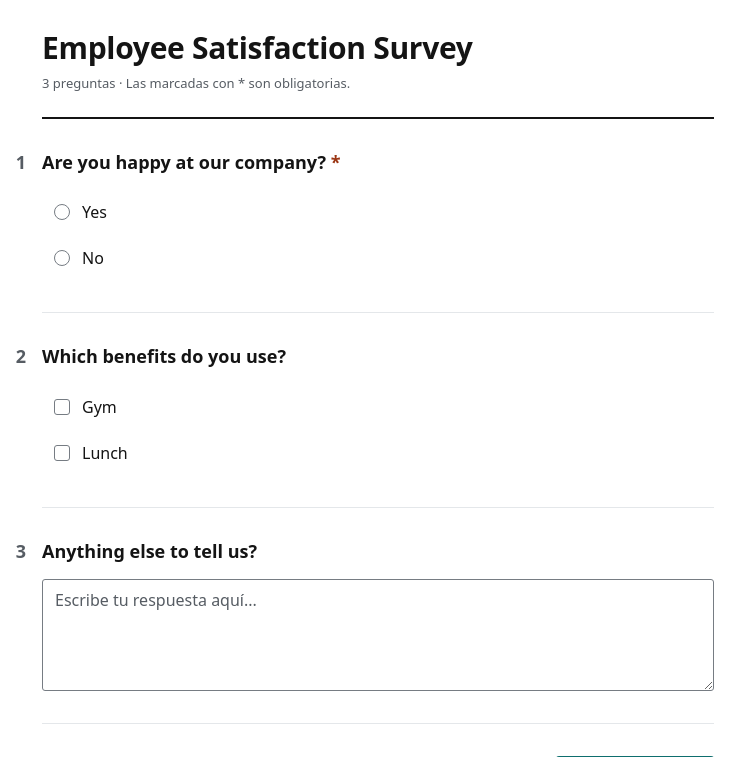
SurveyAnsweringPage (REQ-FE-023, REQ-FE-024, REQ-FE-034) › AC-FE-023-3: a checkbox checked then unchecked, and blank text, are omitted
Click the radio button named "Yes" next to "Yes": click(62, 212) 54,204 -> 70,220
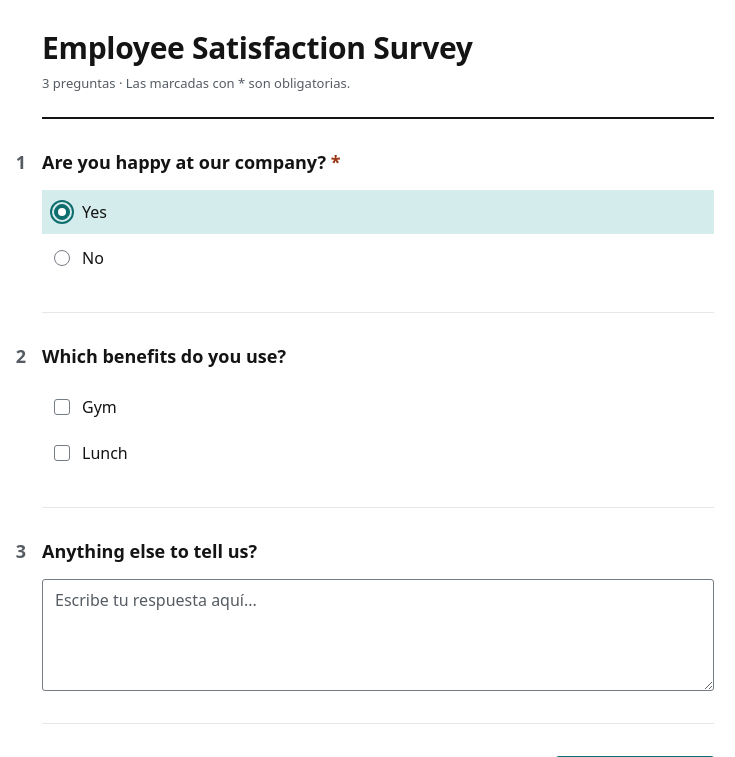
Click the checkbox named "Gym" next to "Gym": click(62, 407) 54,399 -> 70,415
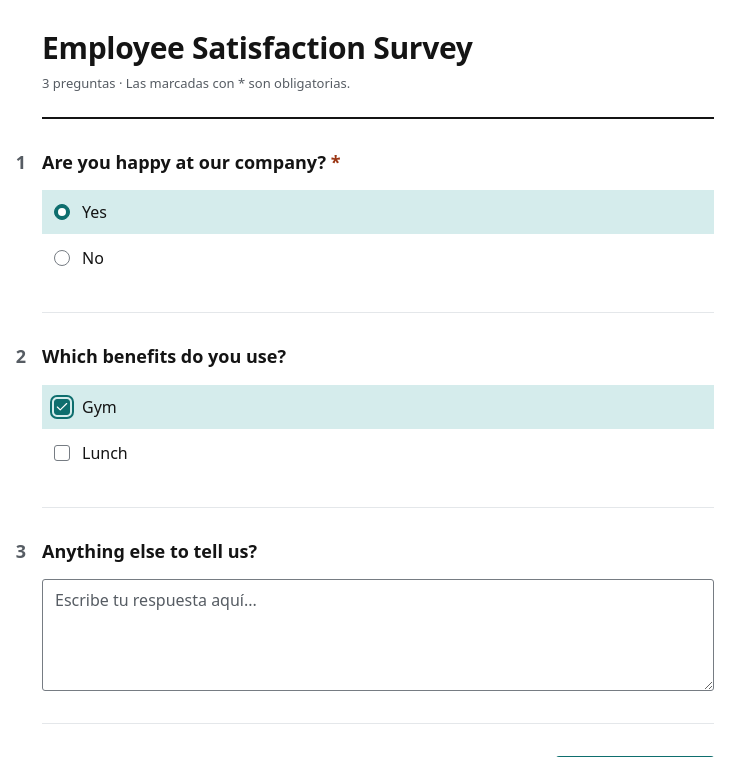
Click the checkbox named "Gym" next to "Gym": click(62, 407) 54,399 -> 70,415
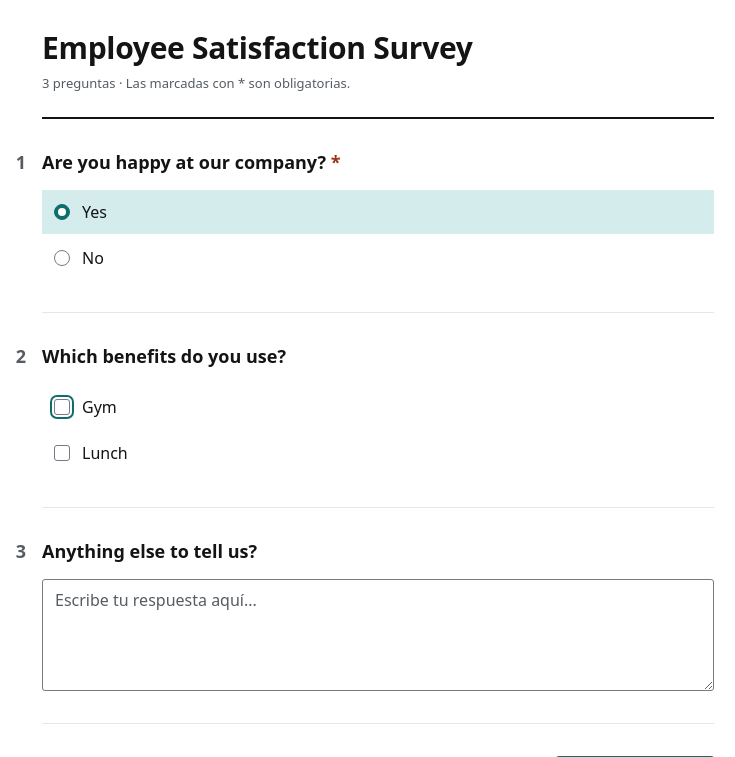
In the text box: (378, 635) 42,579 -> 714,691, type "hi"
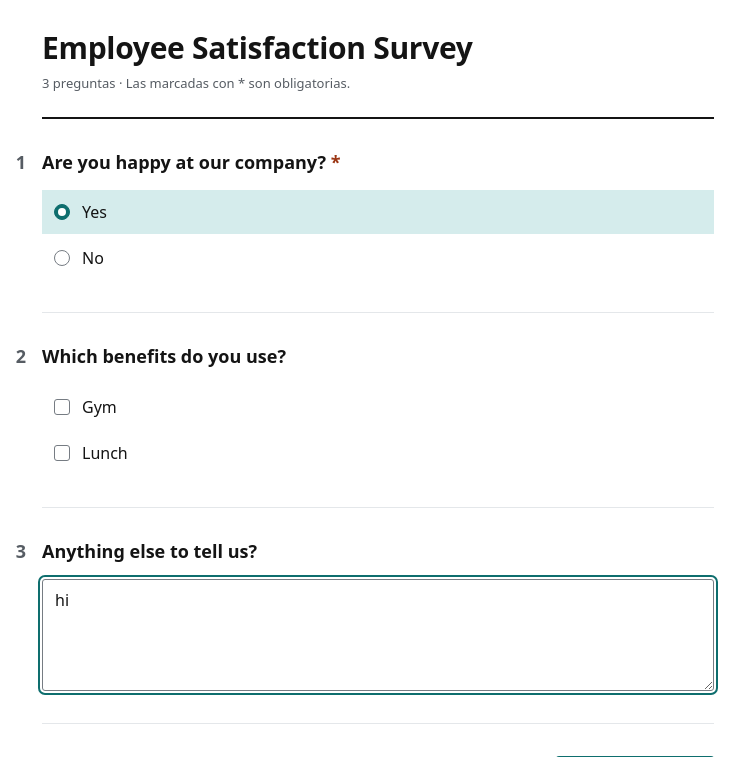
Clear the text box: (378, 635) 42,579 -> 714,691
(page scrolled)
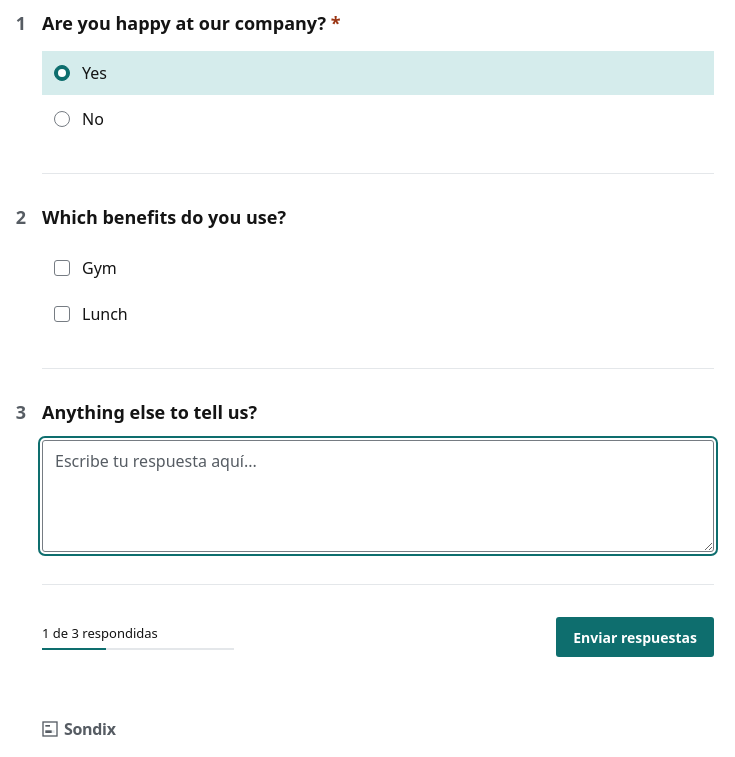
Click the button "Enviar respuestas": click(635, 637) 556,617 -> 714,657
(page scrolled)
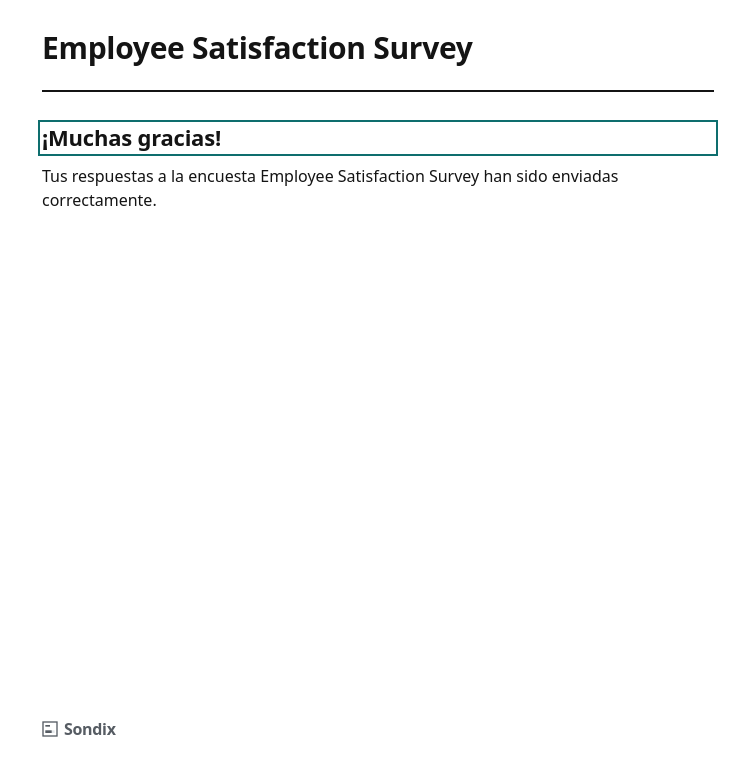
Result: the heading "¡Muchas gracias!" is shown at 42,122 -> 221,152
